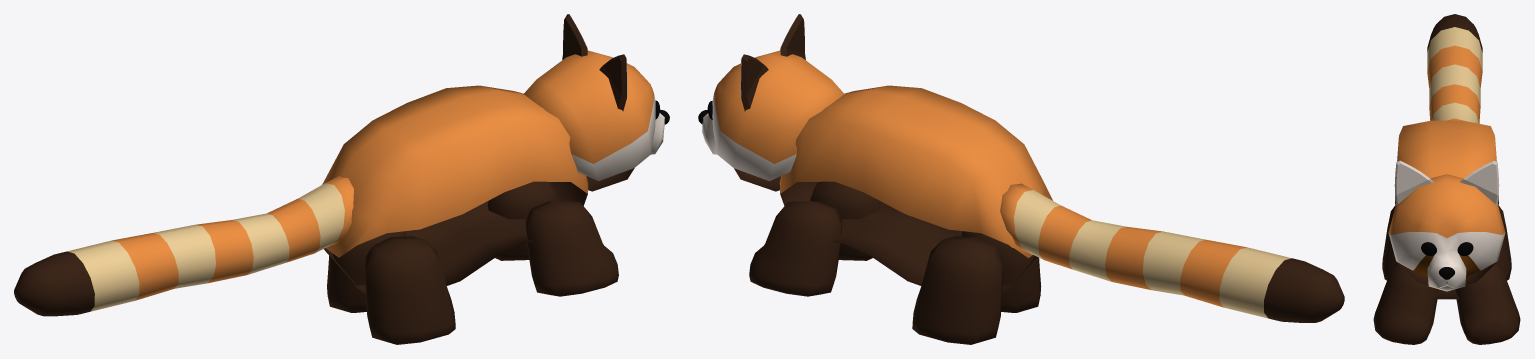
File: OMG_SUSHIII(1).glb
The picture shows the model from 3 angles, left to right: view 1: azimuth 30°, elevation 25°; view 2: azimuth 150°, elevation 25°; view 3: azimuth 270°, elevation 25°; orthographic projection. The views are drawn at different scales.
Parts seen in each view (by area): view 1: Plane, Circle, Cube, Circle.001, Plane.001; view 2: Plane, Circle, Cube, Circle.001, Plane.001; view 3: Circle.001, Cube, Circle, Plane, Plane.001, Sphere, Sphere.001.
Part boxes in pixels (x1,y1,x2,y2): Plane: (322,85,588,293); Circle: (14,176,353,316); Cube: (327,181,618,344); Circle.001: (523,50,664,191); Plane.001: (562,14,627,111); Plane: (779,85,1052,293); Circle: (1000,183,1344,322); Cube: (749,181,1041,344); Circle.001: (702,50,844,191); Plane.001: (740,14,805,111); Circle.001: (1388,174,1505,291); Cube: (1373,205,1520,344); Circle: (1427,14,1482,123); Plane: (1395,120,1498,299); Plane.001: (1394,160,1499,205); Sphere: (1421,242,1473,255); Sphere.001: (1439,267,1454,279).
Bounding box in the file's own units: 6.79 × 2.35 × 1.56.
